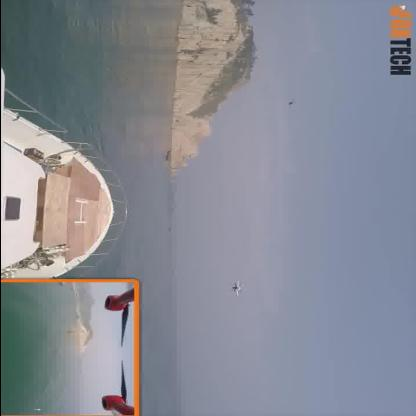drone: (229, 281, 244, 296)
